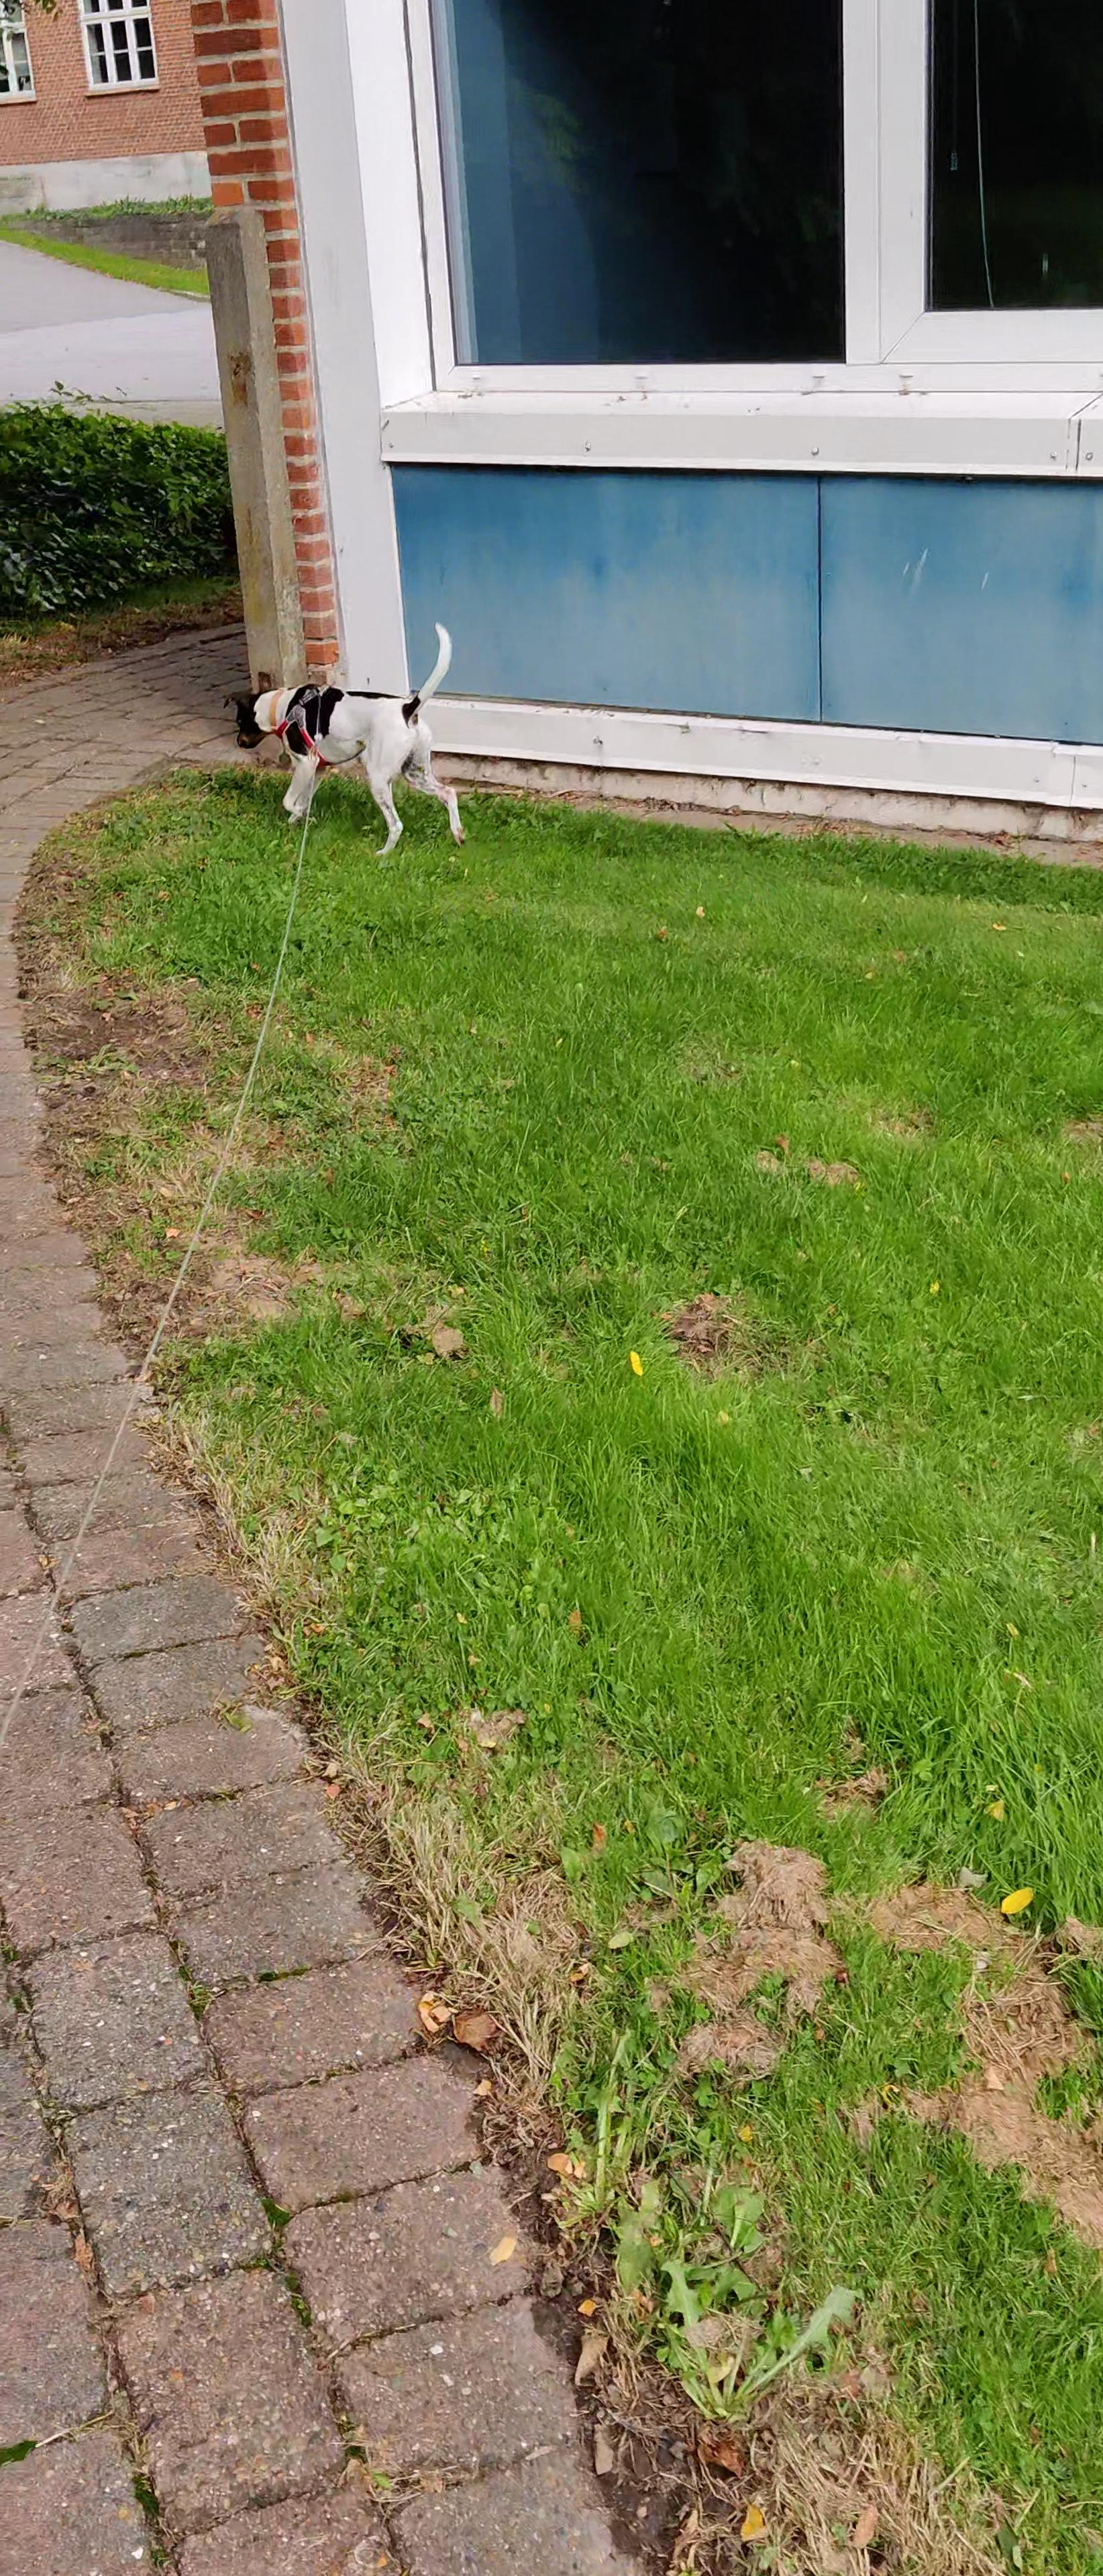Dog: (220, 618, 467, 854)
